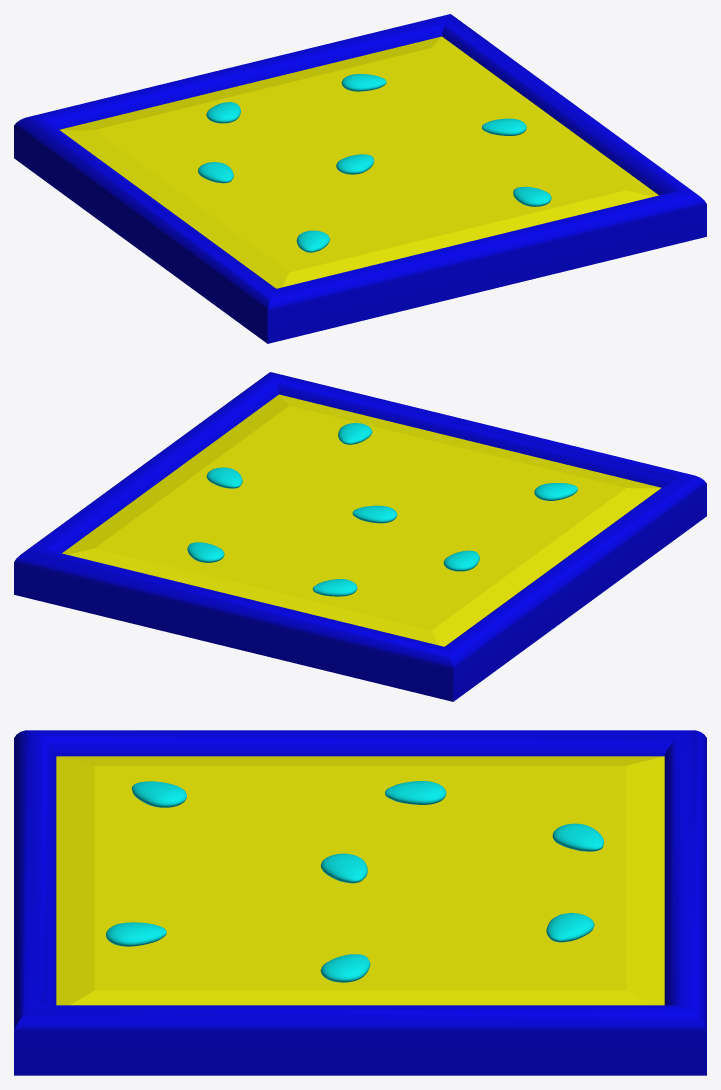
The model's file is Stage_1.fbx.
3 renders of one model, top to bottom at view 1: azimuth 30°, elevation 25°; view 2: azimuth 150°, elevation 25°; view 3: azimuth 270°, elevation 25°, orthographic. The views are drawn at different scales.
Visible parts, largest first — view 1: Tomato_Dirt_Stage_1, Tomato_Bed_Stage_1, Tomato_Seed_7_Stage_1, Tomato_Seed_2_Stage_1, Tomato_Seed_5_Stage_1, Tomato_Seed_6_Stage_1, Tomato_Seed_4_Stage_1, Tomato_Seed_3_Stage_1, Tomato_Seed_1_Stage_1; view 2: Tomato_Dirt_Stage_1, Tomato_Bed_Stage_1, Tomato_Seed_3_Stage_1, Tomato_Seed_5_Stage_1, Tomato_Seed_1_Stage_1, Tomato_Seed_2_Stage_1, Tomato_Seed_7_Stage_1, Tomato_Seed_4_Stage_1, Tomato_Seed_6_Stage_1; view 3: Tomato_Dirt_Stage_1, Tomato_Bed_Stage_1, Tomato_Seed_6_Stage_1, Tomato_Seed_4_Stage_1, Tomato_Seed_1_Stage_1, Tomato_Seed_3_Stage_1, Tomato_Seed_2_Stage_1, Tomato_Seed_7_Stage_1, Tomato_Seed_5_Stage_1.
Part boxes in pixels (x1,y1,x2,y2): Tomato_Dirt_Stage_1: [59, 36, 658, 288]; Tomato_Bed_Stage_1: [14, 14, 706, 343]; Tomato_Seed_7_Stage_1: [341, 74, 386, 91]; Tomato_Seed_2_Stage_1: [482, 118, 526, 135]; Tomato_Seed_5_Stage_1: [336, 154, 374, 174]; Tomato_Seed_6_Stage_1: [513, 186, 551, 206]; Tomato_Seed_4_Stage_1: [198, 162, 233, 183]; Tomato_Seed_3_Stage_1: [206, 102, 240, 123]; Tomato_Seed_1_Stage_1: [296, 230, 330, 252]; Tomato_Dirt_Stage_1: [62, 394, 661, 646]; Tomato_Bed_Stage_1: [14, 372, 706, 701]; Tomato_Seed_3_Stage_1: [312, 579, 357, 596]; Tomato_Seed_5_Stage_1: [352, 505, 397, 523]; Tomato_Seed_1_Stage_1: [534, 483, 577, 500]; Tomato_Seed_2_Stage_1: [206, 467, 242, 488]; Tomato_Seed_7_Stage_1: [187, 542, 224, 562]; Tomato_Seed_4_Stage_1: [443, 550, 479, 571]; Tomato_Seed_6_Stage_1: [338, 423, 372, 444]; Tomato_Dirt_Stage_1: [56, 756, 664, 1005]; Tomato_Bed_Stage_1: [14, 730, 706, 1075]; Tomato_Seed_6_Stage_1: [106, 922, 166, 946]; Tomato_Seed_4_Stage_1: [385, 781, 446, 804]; Tomato_Seed_1_Stage_1: [131, 781, 186, 807]; Tomato_Seed_3_Stage_1: [552, 823, 603, 851]; Tomato_Seed_2_Stage_1: [320, 954, 370, 982]; Tomato_Seed_7_Stage_1: [546, 913, 594, 942]; Tomato_Seed_5_Stage_1: [320, 853, 367, 883].
Size of the model in its own units: 4.24 by 0.4159 by 4.24.
